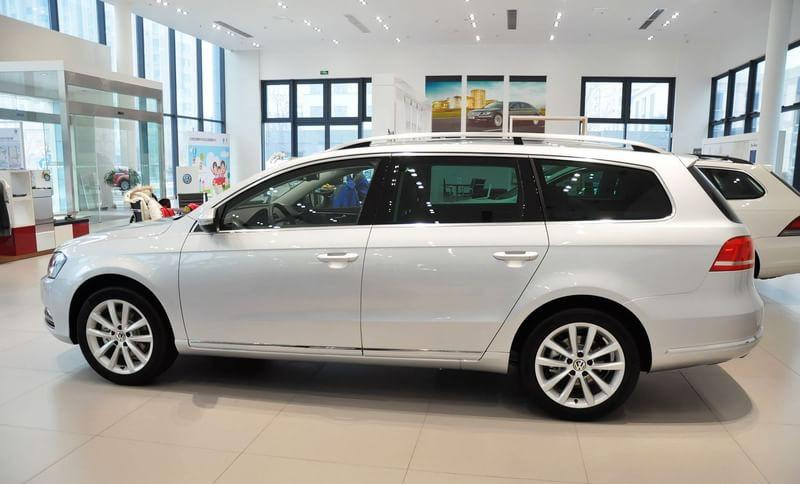Wagon: (38, 131, 765, 422)
